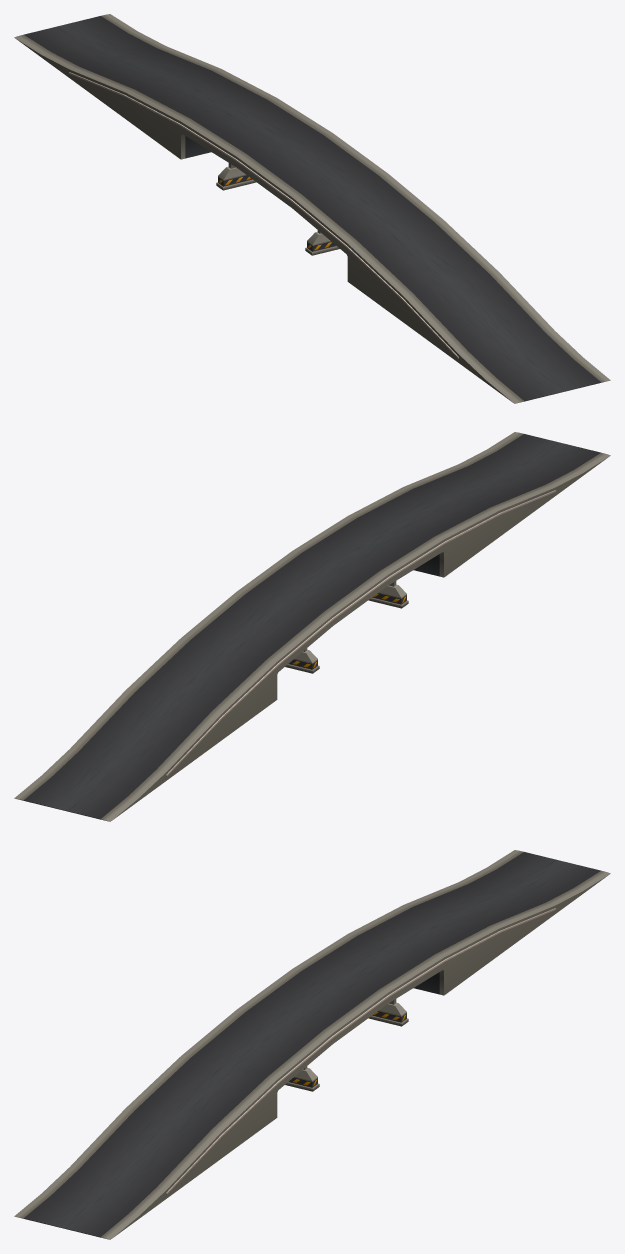
Rendered from Special_1D.fbx.
The picture shows the model from 3 angles, top to bottom: view 1: azimuth 30°, elevation 25°; view 2: azimuth 150°, elevation 25°; view 3: azimuth 330°, elevation 25°; orthographic projection.
Parts seen in each view (by area): view 1: Special_1D; view 2: Special_1D; view 3: Special_1D.
Part boxes in pixels (box(x1,y1,x2,y2)): Special_1D: box(14, 14, 610, 403); Special_1D: box(14, 432, 610, 821); Special_1D: box(14, 850, 610, 1239).
Bounding box in the file's own units: 2040 × 879 × 18000.
